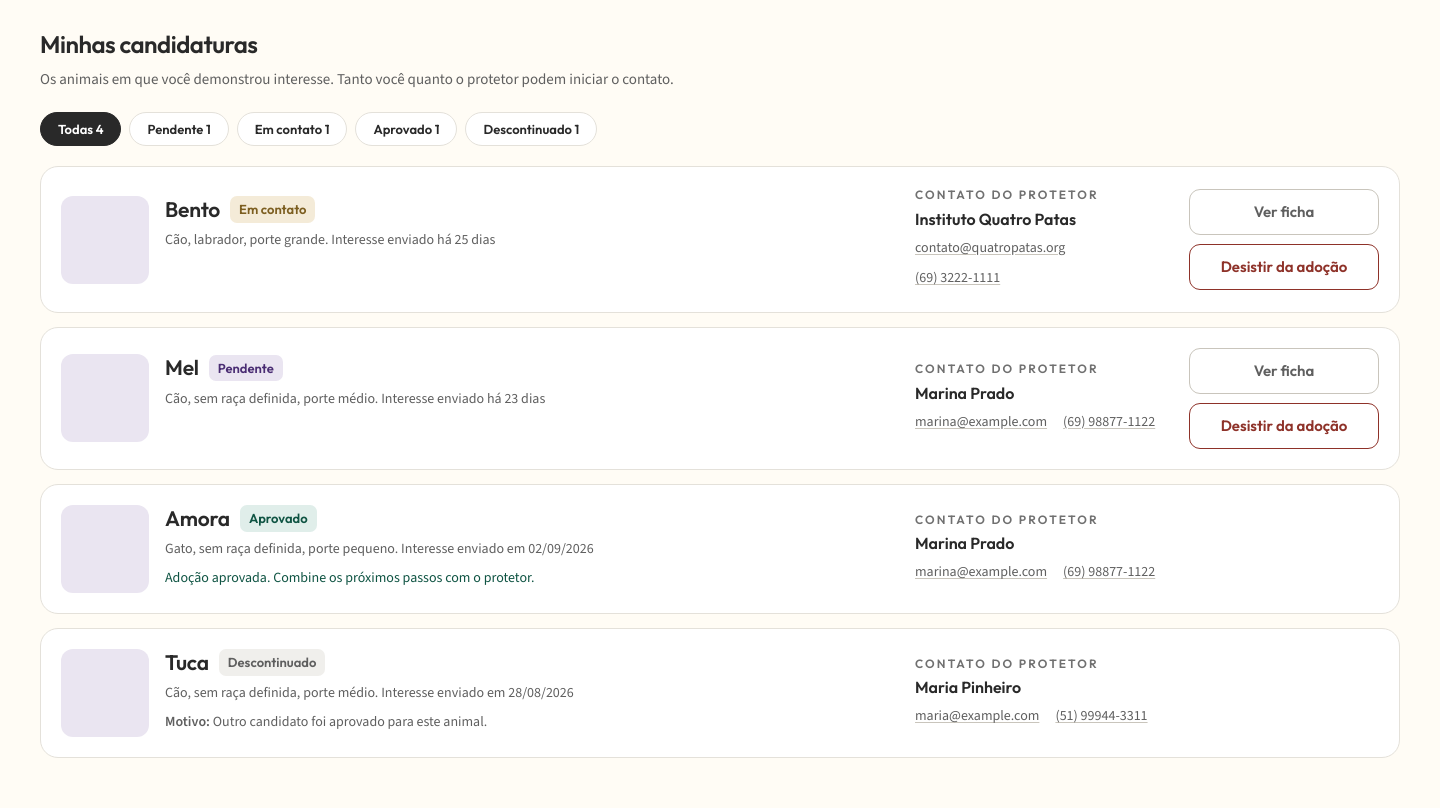
desistir › voltar fecha a confirmação sem apagar nada
The image size is (1440, 808).
Check: the heading "Mel" is shown, box [165,354,199,382]
Click the button with aria-label "Desistir da adoção de Bento" at [1284, 267], box [1189,244,1379,290]
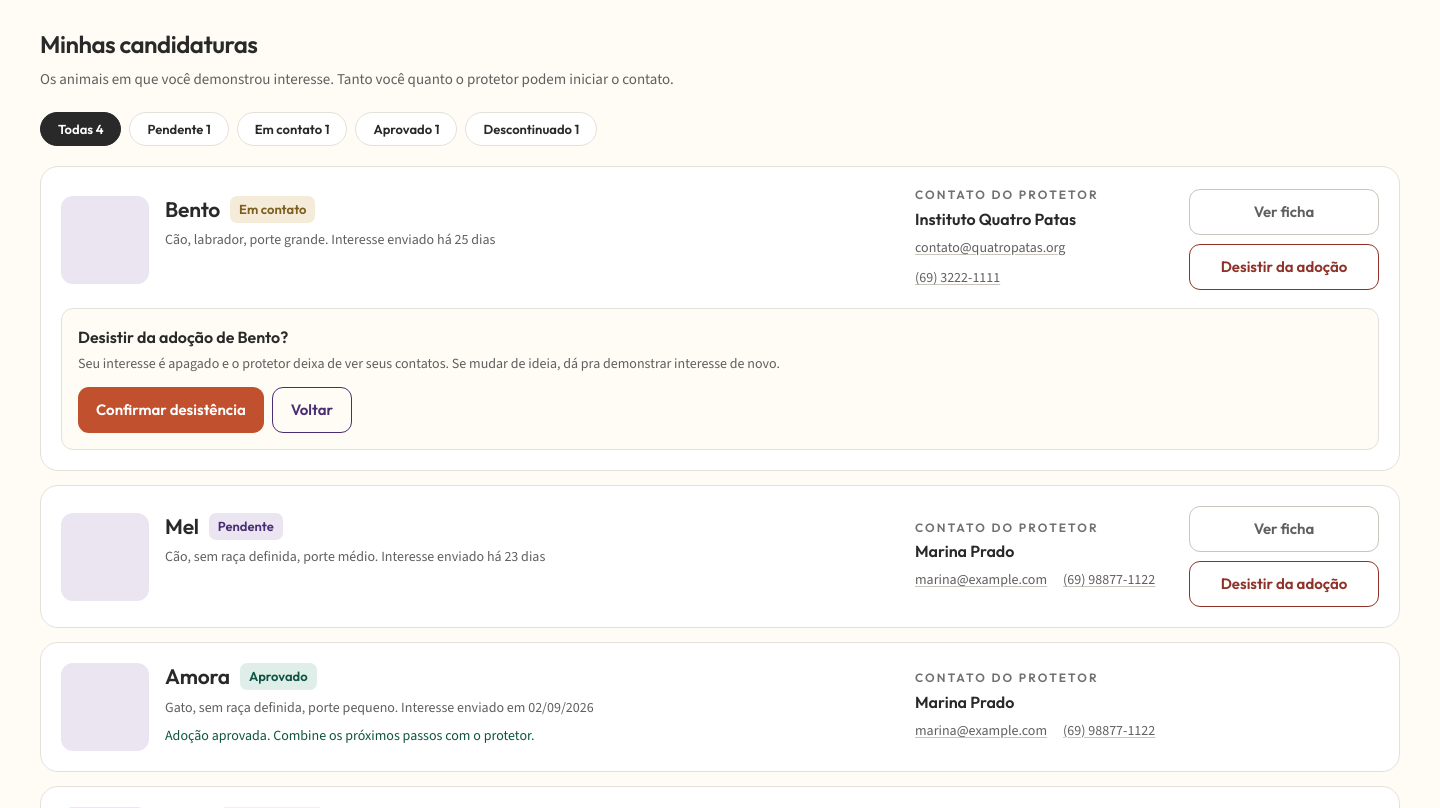
Click the button "Voltar" at [312, 410], box [272,387,352,433]
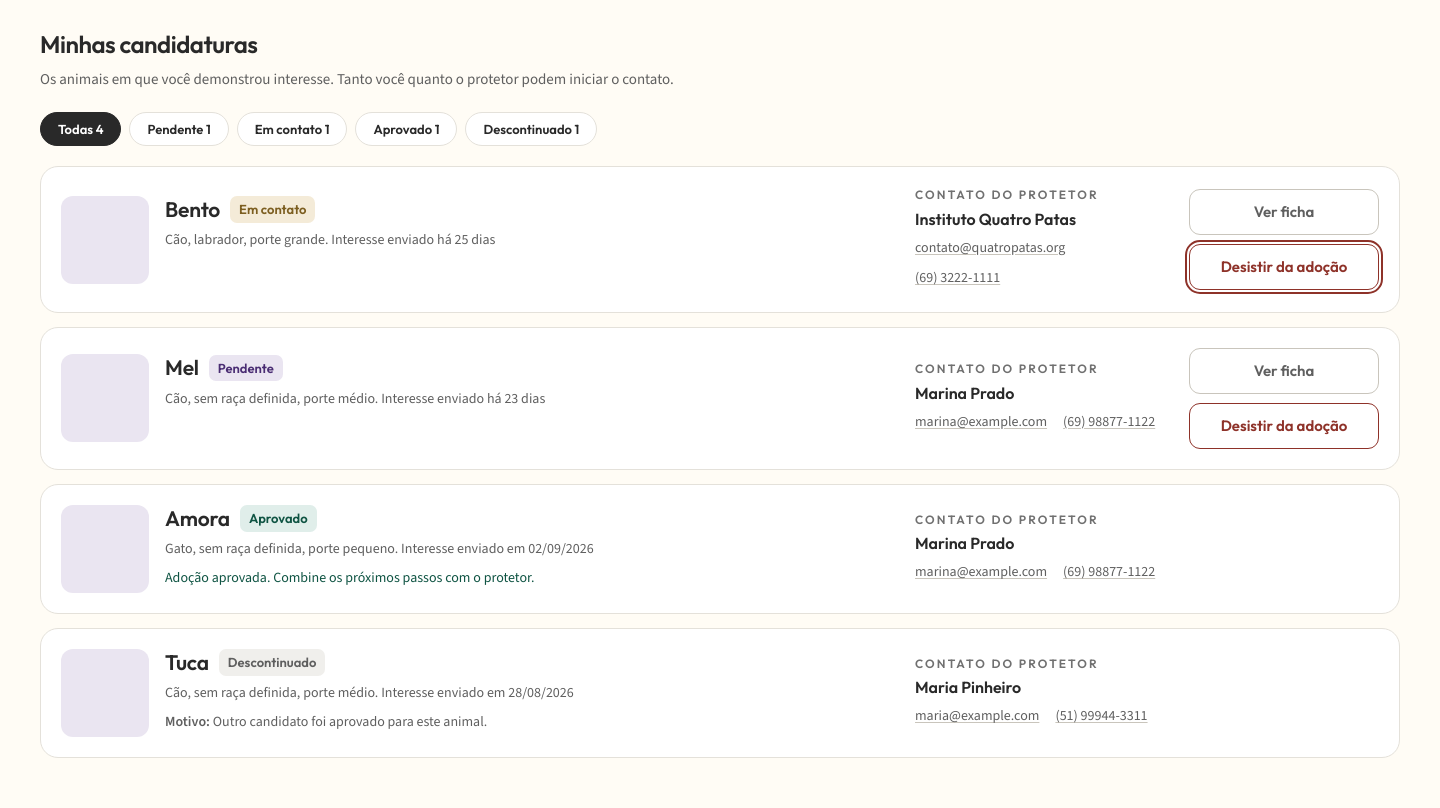
Check: the button "Confirmar desistência" is gone
